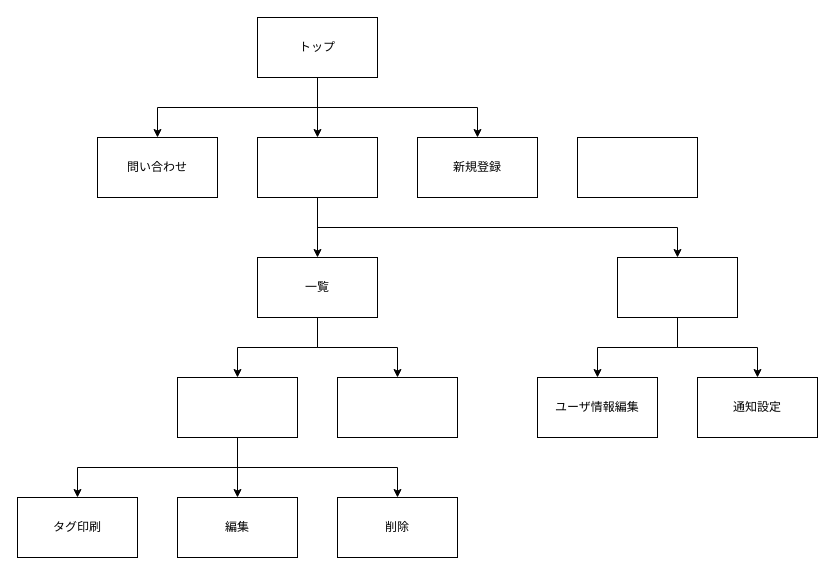
This 835x575 diagram has some shape labels left out. The shapes that lost their labels are listed below. From the top down, each one's box as (x1, y1, x2, y2) in pixels, then its label:
(256, 136, 378, 198): ログイン
(576, 136, 698, 198): ログアウト後
(616, 256, 738, 318): 設定
(176, 376, 298, 438): 詳細
(336, 376, 458, 438): 新規
